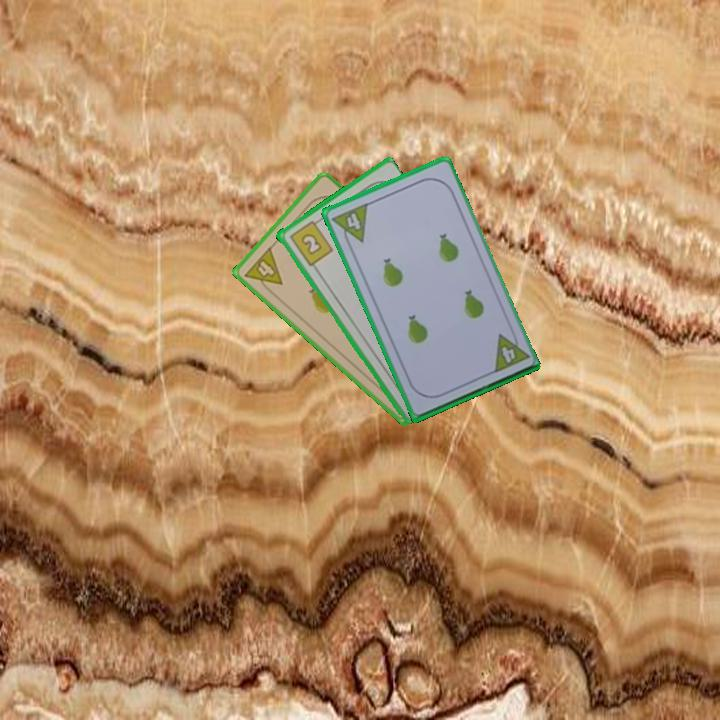2b: (286, 215, 335, 269)
4p: (241, 243, 285, 298), (328, 199, 370, 250), (489, 326, 531, 376)
